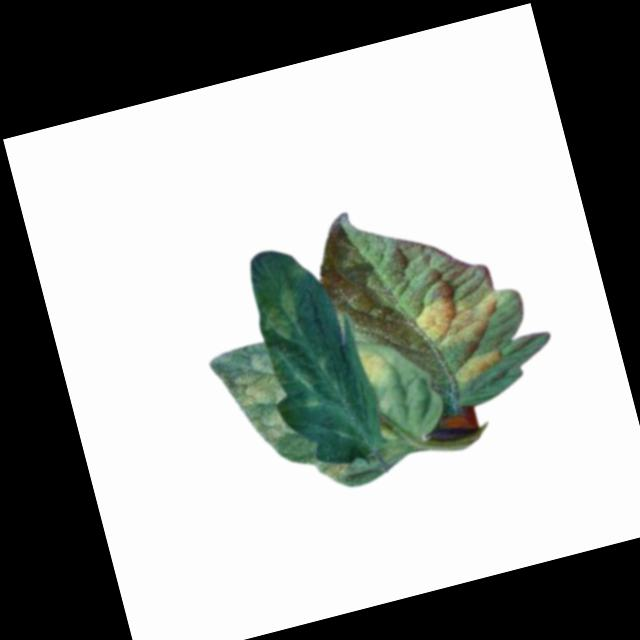Leaf_Mold: (215, 347, 299, 457), (411, 284, 509, 356), (255, 278, 311, 345), (450, 345, 510, 390), (354, 341, 399, 388), (320, 454, 356, 487)
